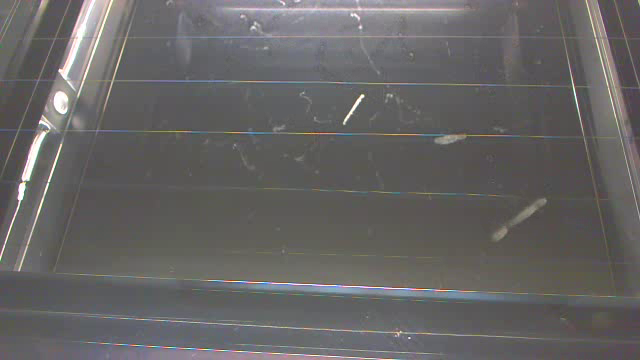Alfa: (489, 192, 554, 244), (342, 91, 370, 130), (433, 127, 471, 151)
